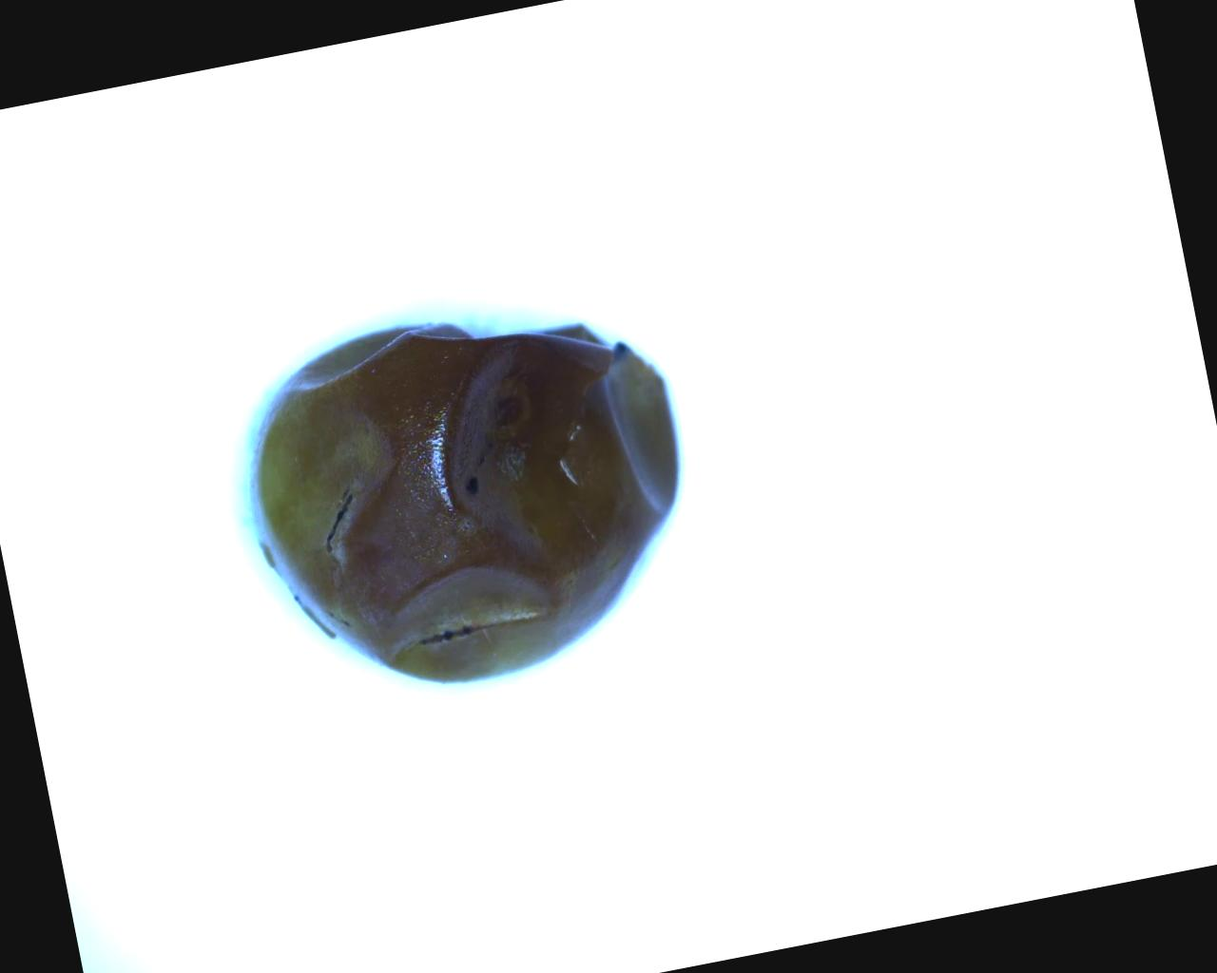Grape Rotten: (216, 274, 717, 718)
